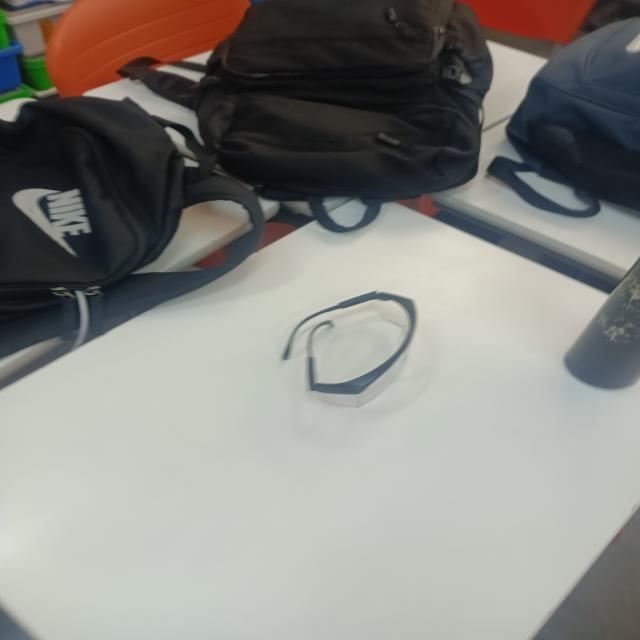oculos-epi: (282, 291, 417, 406)
